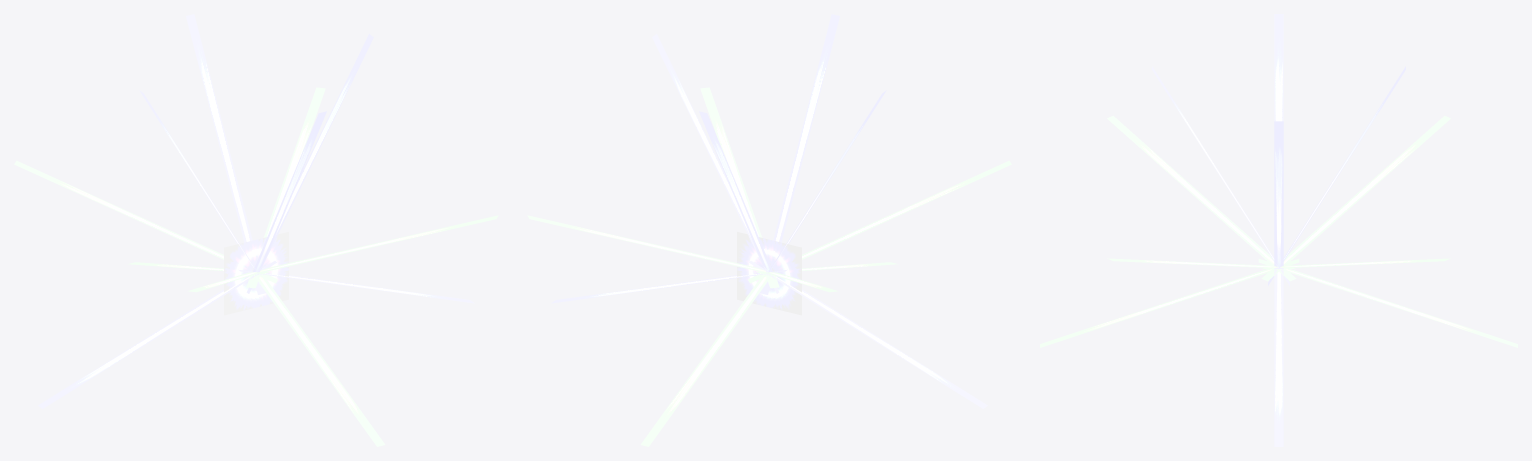
The model's file is sfx_glorb_boxing_attack1.glb.
The picture shows the model from 3 angles, left to right: view 1: azimuth 30°, elevation 25°; view 2: azimuth 150°, elevation 25°; view 3: azimuth 270°, elevation 25°; orthographic projection. The views are drawn at different scales.
Parts seen in each view (by area): view 1: sfx_glorb_boxing_attack1_obj0, sfx_glorb_boxing_attack1_obj2, sfx_glorb_boxing_attack1_obj11, sfx_glorb_boxing_attack1_obj12, sfx_glorb_boxing_attack1_obj3, sfx_glorb_boxing_attack1_obj9, sfx_glorb_boxing_attack1_obj4, sfx_glorb_boxing_attack1_obj8, sfx_glorb_boxing_attack1_obj6, sfx_glorb_boxing_attack1_obj10, sfx_glorb_boxing_attack1_obj5; view 2: sfx_glorb_boxing_attack1_obj0, sfx_glorb_boxing_attack1_obj4, sfx_glorb_boxing_attack1_obj13, sfx_glorb_boxing_attack1_obj12, sfx_glorb_boxing_attack1_obj3, sfx_glorb_boxing_attack1_obj6, sfx_glorb_boxing_attack1_obj2, sfx_glorb_boxing_attack1_obj7, sfx_glorb_boxing_attack1_obj9, sfx_glorb_boxing_attack1_obj10, sfx_glorb_boxing_attack1_obj5; view 3: sfx_glorb_boxing_attack1_obj10, sfx_glorb_boxing_attack1_obj7, sfx_glorb_boxing_attack1_obj8, sfx_glorb_boxing_attack1_obj3, sfx_glorb_boxing_attack1_obj11, sfx_glorb_boxing_attack1_obj13, sfx_glorb_boxing_attack1_obj5, sfx_glorb_boxing_attack1_obj2, sfx_glorb_boxing_attack1_obj4, sfx_glorb_boxing_attack1_obj6, sfx_glorb_boxing_attack1_obj9.
Part boxes in pixels (<box>): sfx_glorb_boxing_attack1_obj0: <box>224,232,288,315</box>; sfx_glorb_boxing_attack1_obj2: <box>186,14,265,294</box>; sfx_glorb_boxing_attack1_obj11: <box>254,274,385,446</box>; sfx_glorb_boxing_attack1_obj12: <box>38,261,276,408</box>; sfx_glorb_boxing_attack1_obj3: <box>246,34,373,293</box>; sfx_glorb_boxing_attack1_obj9: <box>246,87,325,288</box>; sfx_glorb_boxing_attack1_obj4: <box>253,111,326,271</box>; sfx_glorb_boxing_attack1_obj8: <box>14,160,277,283</box>; sfx_glorb_boxing_attack1_obj6: <box>260,215,498,271</box>; sfx_glorb_boxing_attack1_obj10: <box>238,269,474,303</box>; sfx_glorb_boxing_attack1_obj5: <box>139,90,257,272</box>; sfx_glorb_boxing_attack1_obj0: <box>737,232,801,315</box>; sfx_glorb_boxing_attack1_obj4: <box>760,14,839,294</box>; sfx_glorb_boxing_attack1_obj13: <box>640,274,771,446</box>; sfx_glorb_boxing_attack1_obj12: <box>749,261,987,408</box>; sfx_glorb_boxing_attack1_obj3: <box>652,34,779,293</box>; sfx_glorb_boxing_attack1_obj6: <box>700,87,779,288</box>; sfx_glorb_boxing_attack1_obj2: <box>699,111,772,271</box>; sfx_glorb_boxing_attack1_obj7: <box>748,160,1011,283</box>; sfx_glorb_boxing_attack1_obj9: <box>527,215,765,271</box>; sfx_glorb_boxing_attack1_obj10: <box>551,269,787,303</box>; sfx_glorb_boxing_attack1_obj5: <box>768,90,886,272</box>; sfx_glorb_boxing_attack1_obj10: <box>1274,269,1283,446</box>; sfx_glorb_boxing_attack1_obj7: <box>1107,115,1296,281</box>; sfx_glorb_boxing_attack1_obj8: <box>1261,115,1450,281</box>; sfx_glorb_boxing_attack1_obj3: <box>1274,121,1283,266</box>; sfx_glorb_boxing_attack1_obj11: <box>1040,259,1299,347</box>; sfx_glorb_boxing_attack1_obj13: <box>1258,259,1517,347</box>; sfx_glorb_boxing_attack1_obj5: <box>1274,14,1283,121</box>; sfx_glorb_boxing_attack1_obj2: <box>1268,66,1405,285</box>; sfx_glorb_boxing_attack1_obj4: <box>1152,66,1289,285</box>; sfx_glorb_boxing_attack1_obj6: <box>1107,258,1295,269</box>; sfx_glorb_boxing_attack1_obj9: <box>1262,258,1450,269</box>.
Size of the model in its own units: 1.66 by 1.07 by 1.66.
Materials: 3 (3 with a texture image).
